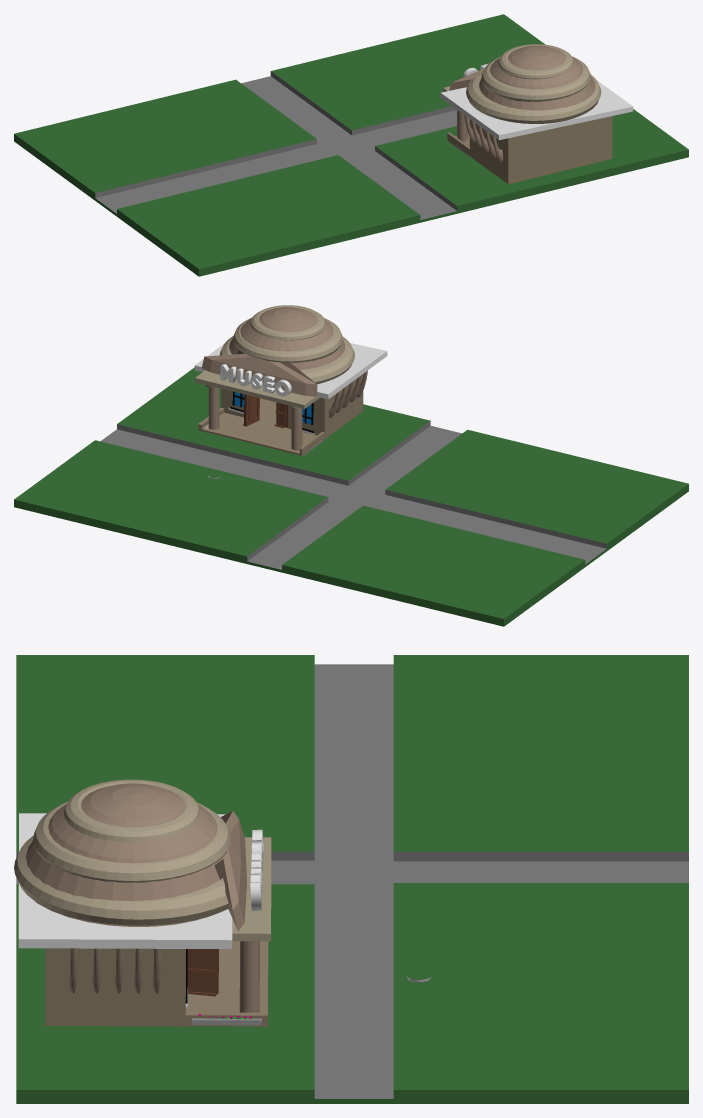
File: ciudad.glb
3 views of the same model, one above another, from view 1: azimuth 30°, elevation 25°; view 2: azimuth 150°, elevation 25°; view 3: azimuth 270°, elevation 25° (orthographic). The views are drawn at different scales.
Visible parts, largest first — view 1: Cube, Cube.001, Esfera.006, Cubo.047, Toroide.010, Toroide.011, Toroide.012; view 2: Cube, Esfera.006, Cube.001, Toroide.011, Cubo.047, Cubo.023, Toroide.012, Texto, Toroide.010, Cilindro, Cilindro.001; view 3: Cube, Esfera.006, Cube.001, Cubo.047, Toroide.010, Toroide.011, Toroide.012, Cubo.023, Cilindro, Cubo.021, Texto.
Boxes of the visible parts, x1,y1,x2,y2 form: Cube: (14, 14, 688, 276); Cube.001: (447, 116, 612, 184); Esfera.006: (449, 45, 598, 110); Cubo.047: (440, 80, 633, 140); Toroide.010: (466, 74, 601, 123); Toroide.011: (481, 57, 590, 101); Toroide.012: (498, 44, 573, 79); Cube: (14, 367, 688, 626); Esfera.006: (201, 307, 345, 396); Cube.001: (198, 374, 363, 455); Toroide.011: (233, 317, 342, 362); Cubo.047: (194, 343, 387, 399); Cubo.023: (195, 370, 319, 409); Toroide.012: (250, 305, 325, 340); Texto: (220, 363, 291, 396); Toroide.010: (220, 336, 354, 384); Cilindro: (208, 387, 219, 429); Cilindro.001: (291, 407, 302, 450); Cube: (16, 655, 688, 1103); Esfera.006: (25, 783, 246, 930); Cube.001: (45, 941, 268, 1026); Cubo.047: (18, 813, 232, 949); Toroide.010: (14, 835, 228, 926); Toroide.011: (33, 802, 230, 882); Toroide.012: (64, 779, 200, 842); Cubo.023: (232, 837, 271, 941); Cilindro: (239, 941, 259, 1012); Cubo.021: (187, 949, 218, 994); Texto: (250, 829, 263, 910).
Bounding box in the file's own units: 28.2 × 6.14 × 18.5.
